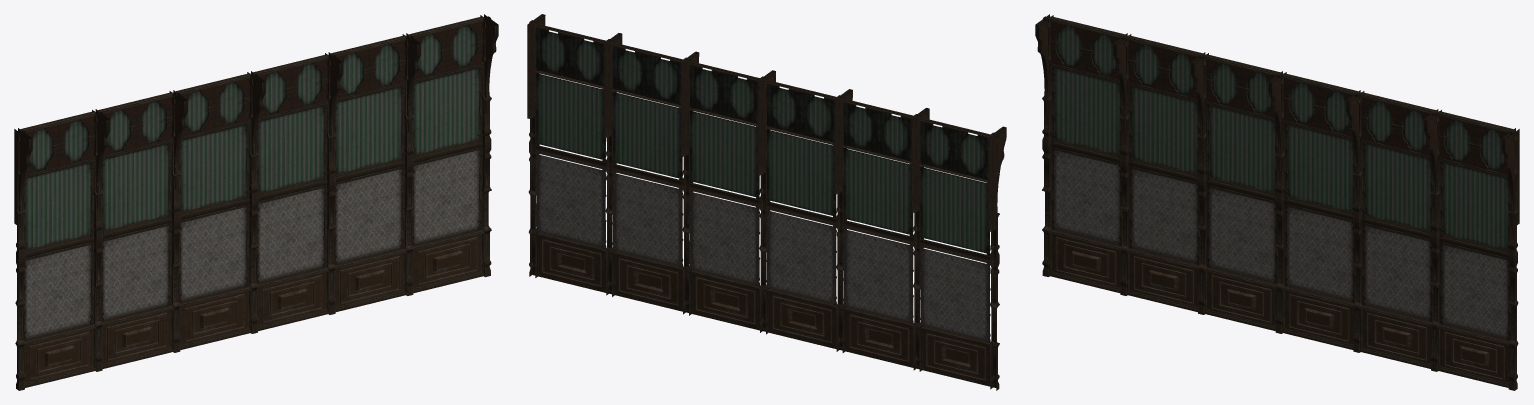
File: wall_molding.glb
The picture shows the model from 3 angles, left to right: view 1: azimuth 30°, elevation 25°; view 2: azimuth 150°, elevation 25°; view 3: azimuth 330°, elevation 25°; orthographic projection.
Visible parts, largest first — view 1: Wall_Left, Wall_Right_02, Wall_Right_04, Wall_Right_01, Wall_Right_03, Wall_Right_00; view 2: Wall_Left, Wall_Right_04, Wall_Right_03, Wall_Right_00, Wall_Right_01, Wall_Right_02; view 3: Wall_Left, Wall_Right_03, Wall_Right_02, Wall_Right_04, Wall_Right_01, Wall_Right_00.
Part boxes in pixels (x1,y1,x2,y2): Wall_Left: (14, 109, 110, 390); Wall_Right_02: (330, 33, 420, 311); Wall_Right_04: (97, 90, 187, 368); Wall_Right_01: (252, 52, 343, 331); Wall_Right_03: (408, 14, 498, 293); Wall_Right_00: (174, 71, 265, 349); Wall_Left: (911, 108, 1006, 390); Wall_Right_04: (834, 89, 918, 368); Wall_Right_03: (527, 14, 611, 293); Wall_Right_00: (758, 70, 841, 349); Wall_Right_01: (681, 51, 765, 331); Wall_Right_02: (604, 33, 688, 312); Wall_Left: (1035, 14, 1131, 295); Wall_Right_03: (1437, 111, 1519, 390); Wall_Right_02: (1360, 92, 1441, 371); Wall_Right_04: (1126, 35, 1208, 314); Wall_Right_01: (1282, 73, 1364, 352); Wall_Right_00: (1204, 54, 1286, 333).
Bounding box in the file's own units: 7.73 × 4.02 × 0.4148.
Materials: 3 (3 with a texture image).
